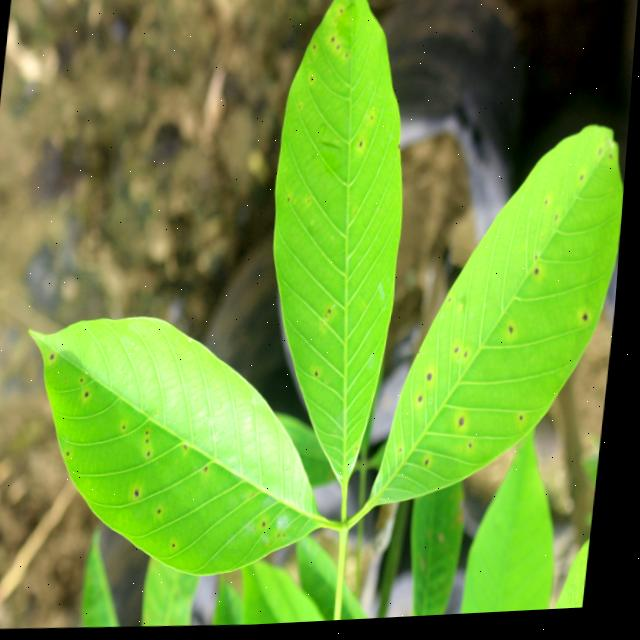Colletotrichum: (432, 378, 438, 386), (465, 422, 470, 430)
